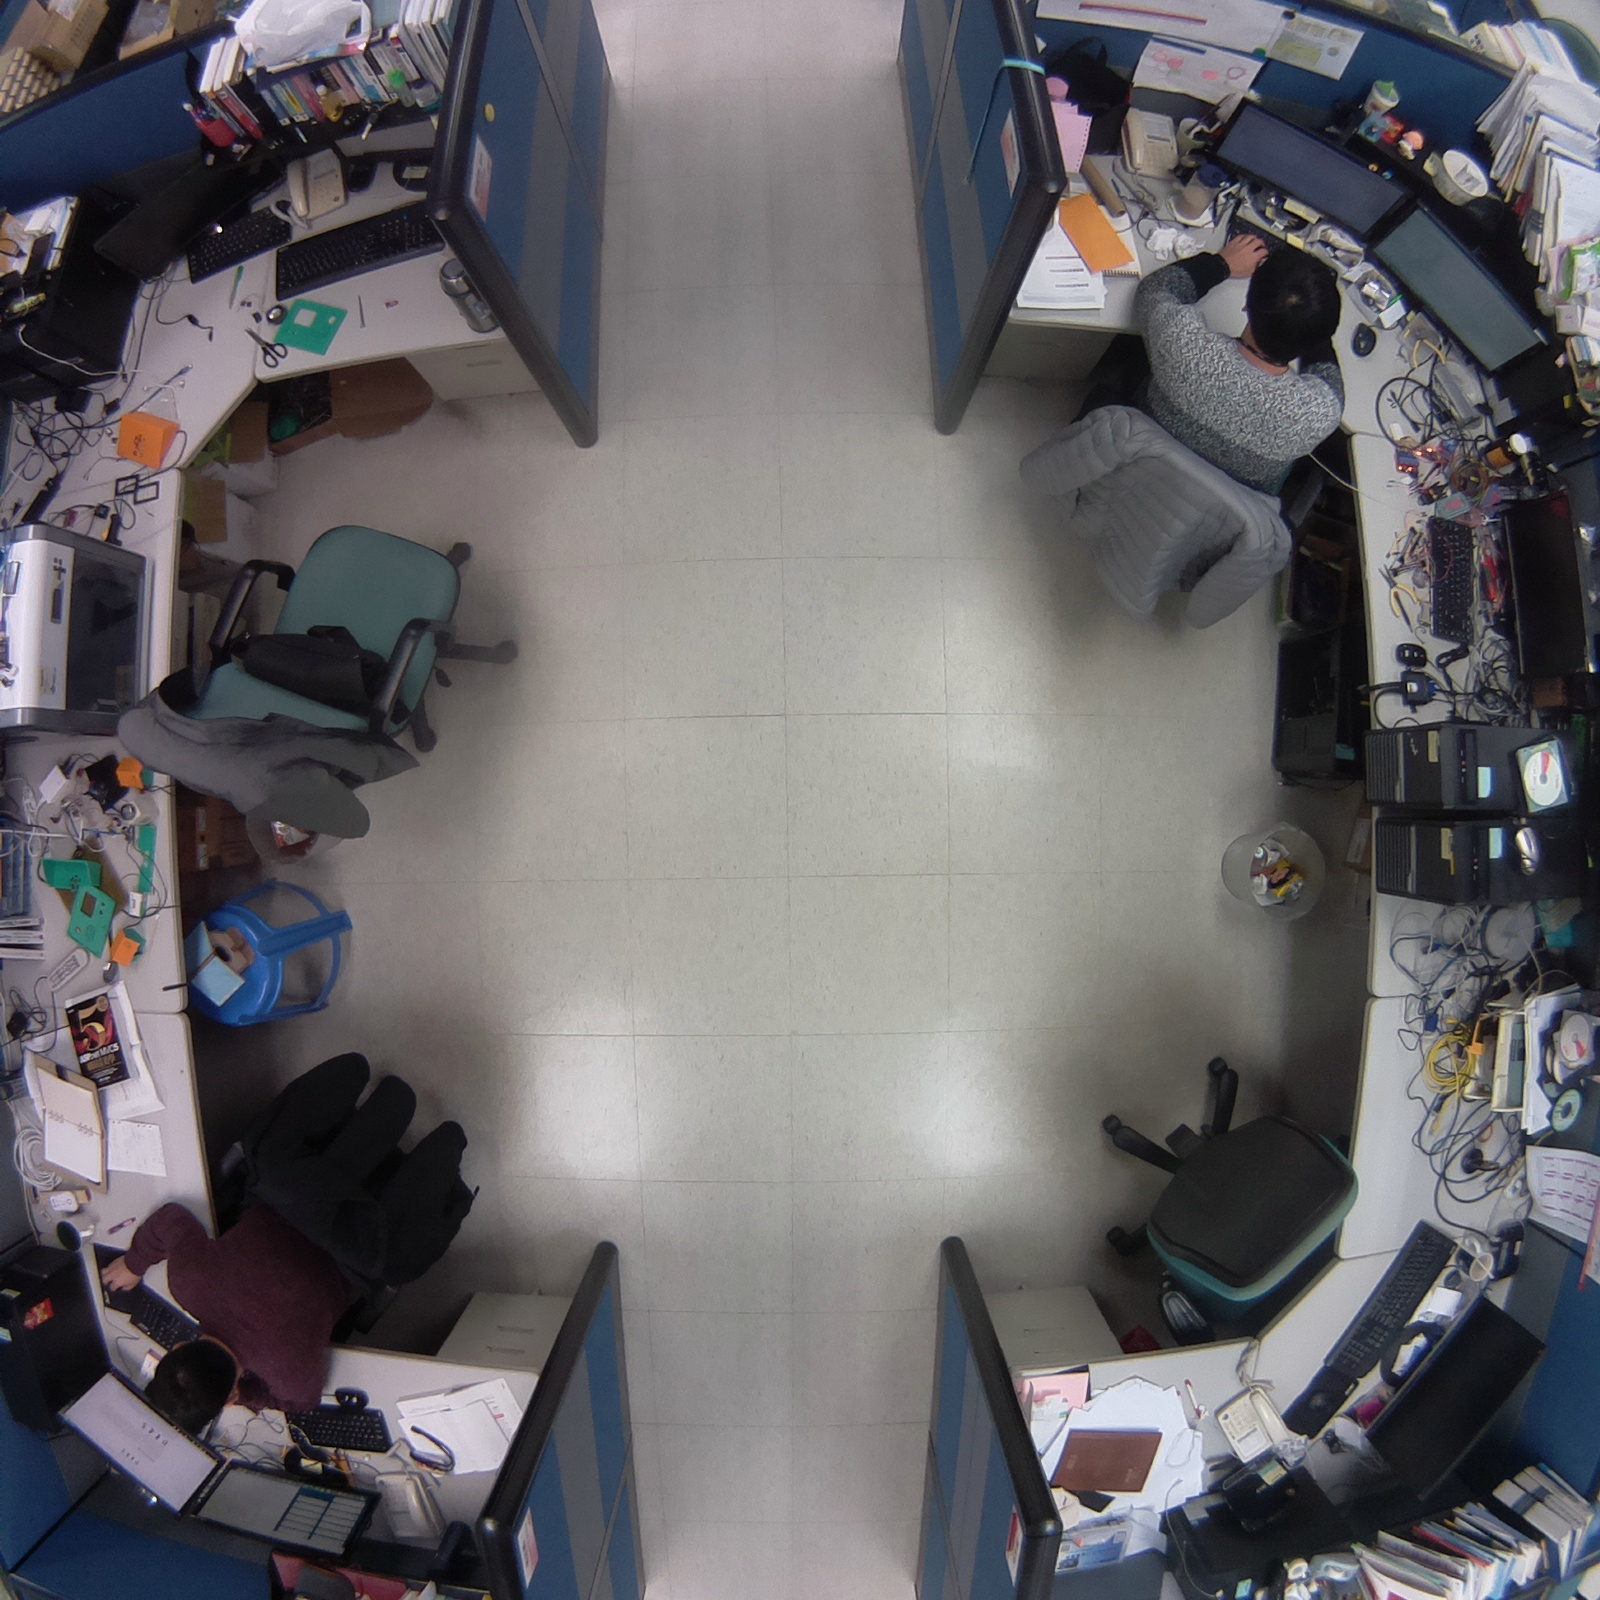chair: (86, 507, 541, 859), (1073, 1037, 1371, 1367)
sitting: (81, 1023, 503, 1455), (1008, 212, 1370, 658)
